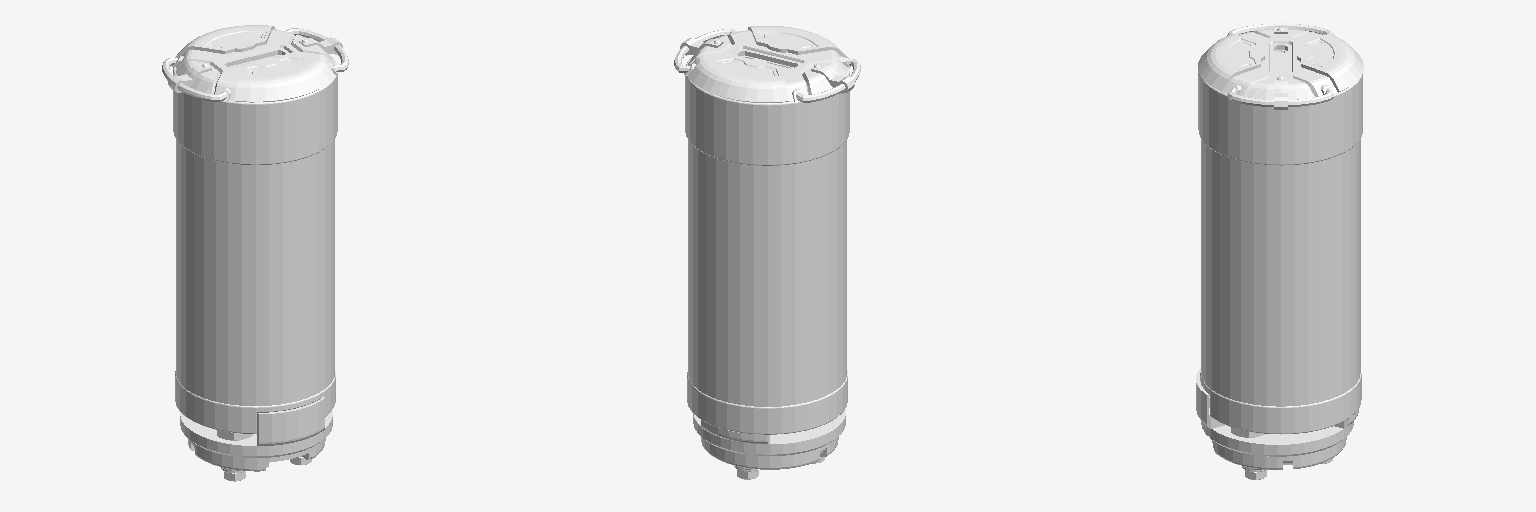
The picture shows the model from 3 angles: view 1: azimuth 30°, elevation 25°; view 2: azimuth 150°, elevation 25°; view 3: azimuth 270°, elevation 25°; orthographic projection.
Parts seen in each view (by area): view 1: GLASS, BODY; view 2: GLASS, BODY; view 3: GLASS, BODY.
Part boxes in pixels (bbox=[...]): GLASS: bbox=[176, 139, 334, 412]; BODY: bbox=[162, 25, 348, 481]; GLASS: bbox=[688, 140, 846, 406]; BODY: bbox=[674, 26, 860, 479]; GLASS: bbox=[1201, 139, 1360, 406]; BODY: bbox=[1196, 21, 1363, 479].
Size of the model in its own units: 544 by 1253 by 469.